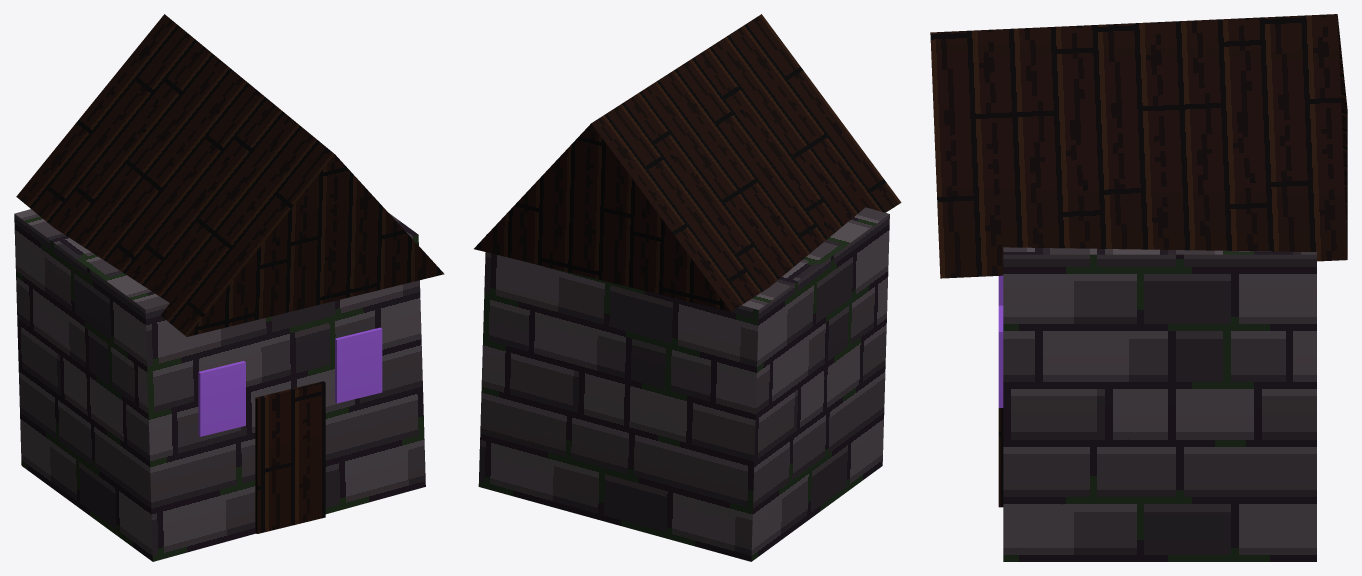
Rendered from crooked_house.glb.
3 views of the same model, side by side, from view 1: azimuth 30°, elevation 25°; view 2: azimuth 150°, elevation 25°; view 3: azimuth 270°, elevation 25° (orthographic). The views are drawn at different scales.
Visible parts, largest first — view 1: crooked_house; view 2: crooked_house; view 3: crooked_house.
Boxes of the visible parts, x1,y1,x2,y2 form: crooked_house: [14, 14, 444, 561]; crooked_house: [474, 14, 901, 561]; crooked_house: [930, 14, 1347, 561].
Size of the model in its own units: 3.69 by 5.15 by 3.99.
Materials: 3 (2 with a texture image).
